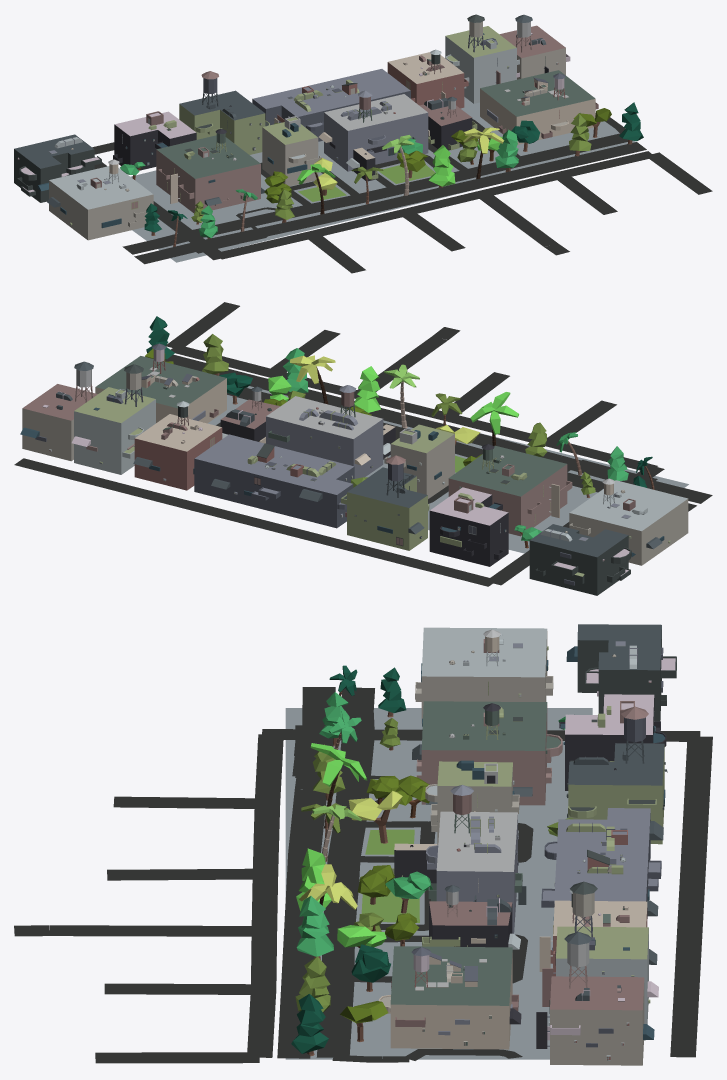
Rendered from SJ_Env1.fbx.
The picture shows the model from 3 angles, top to bottom: view 1: azimuth 30°, elevation 25°; view 2: azimuth 150°, elevation 25°; view 3: azimuth 270°, elevation 25°; orthographic projection. The views are drawn at different scales.
Parts seen in each view (by area): view 1: SJ_Env1; view 2: SJ_Env1; view 3: SJ_Env1.
Part boxes in pixels (bbox=[...]): SJ_Env1: bbox=[14, 14, 712, 273]; SJ_Env1: bbox=[14, 302, 712, 595]; SJ_Env1: bbox=[14, 624, 712, 1065].
Bounding box in the file's own units: 9058 × 1413 × 6720.
